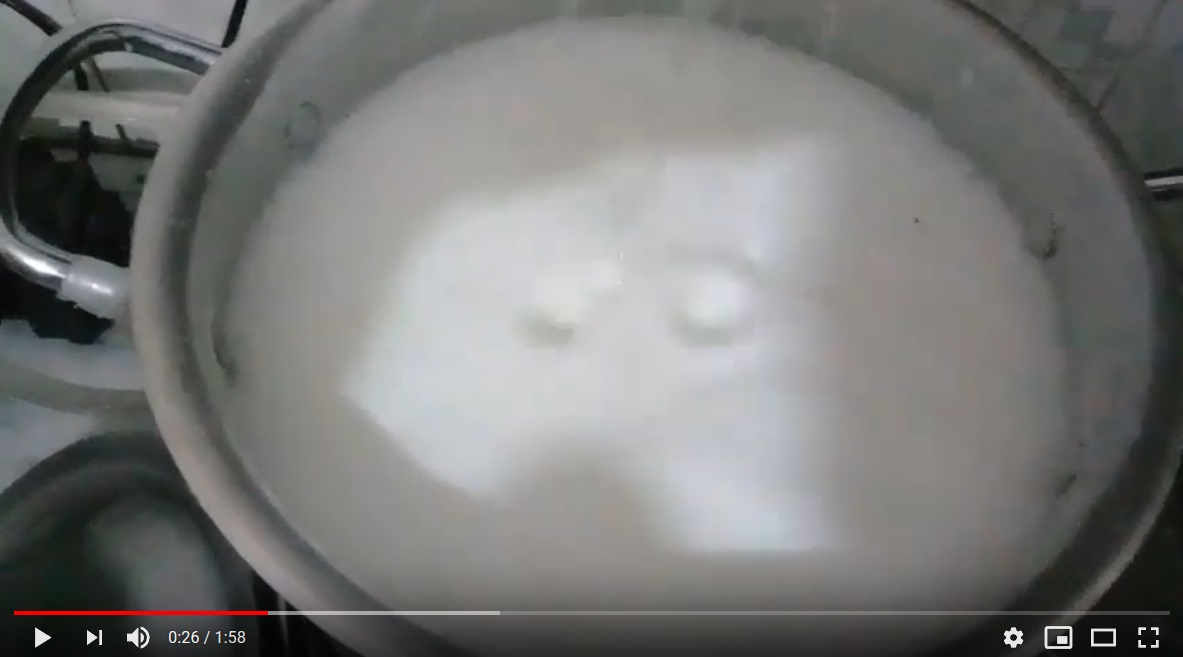Steaming: (117, 4, 1127, 607)
